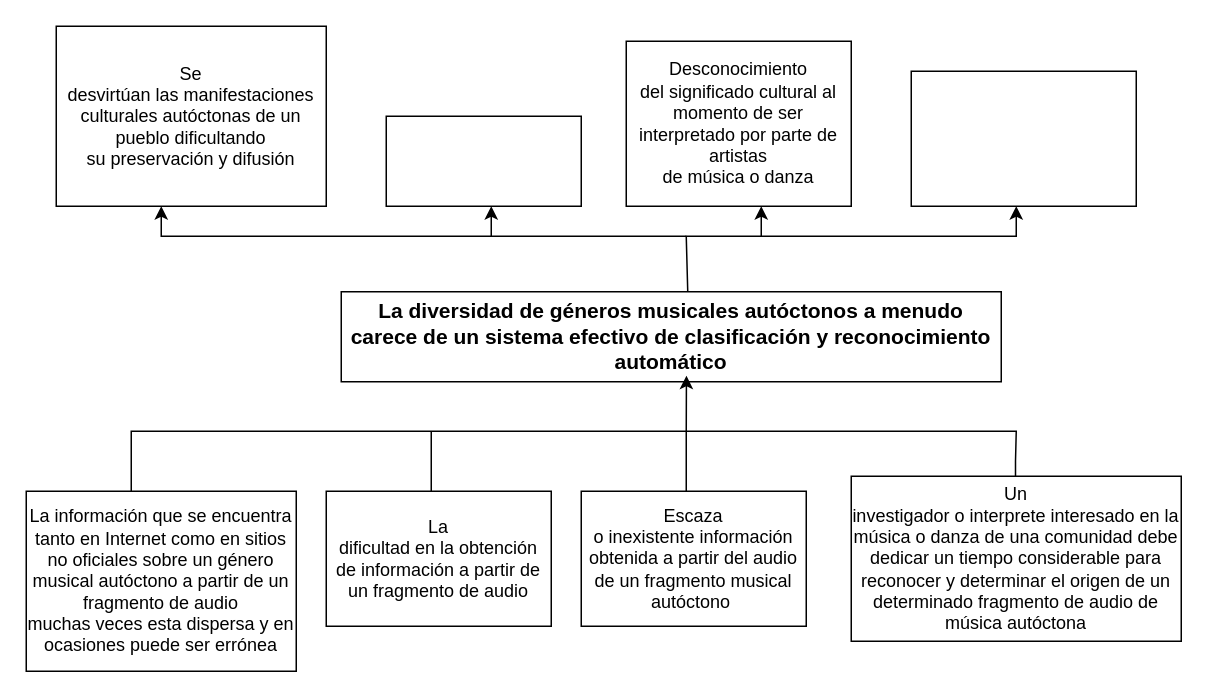
The diagram is 1208 pixels wide and 698 high, and some of its shapes have lost their labels. The box of each missing label's shape, as (x1, y1, x2, y2) in pixels:
mayor inversión de recursos económicos en su investigación: (910, 70, 1136, 206)
Pérdida de interés por parte del espectador: (385, 115, 581, 206)
